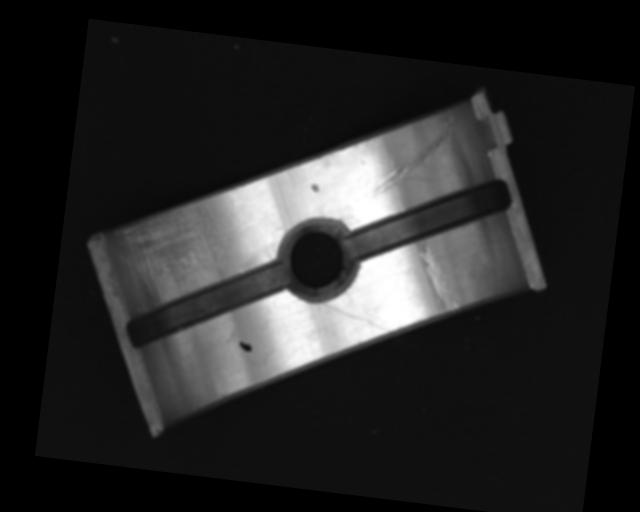blot: (237, 340, 254, 352)
bruise: (310, 183, 320, 193)
gap: (122, 247, 288, 365), (345, 163, 516, 276)
hole: (274, 216, 361, 306)
nick: (372, 104, 455, 202), (411, 239, 467, 314), (318, 302, 397, 332)
scratch: (105, 179, 232, 307)
